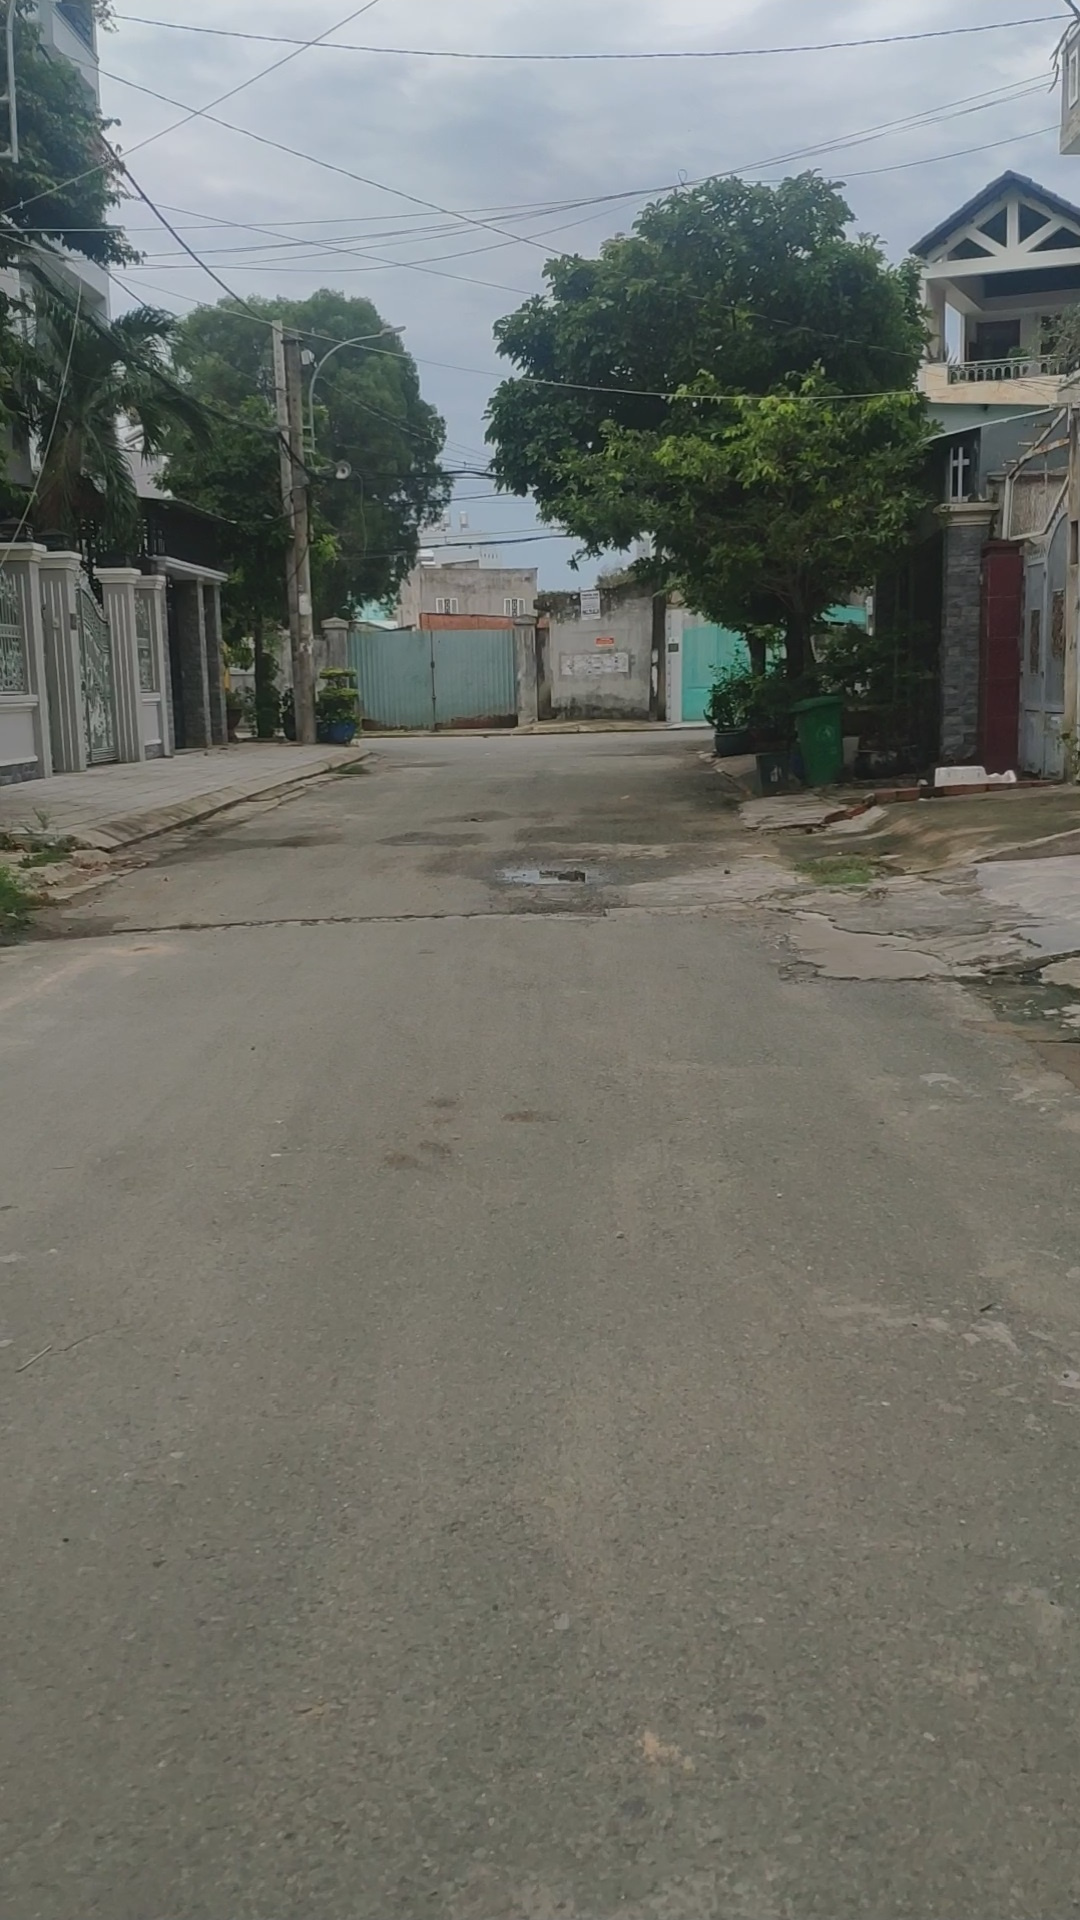hole: (491, 857, 600, 891), (770, 957, 829, 988), (758, 818, 829, 841)
